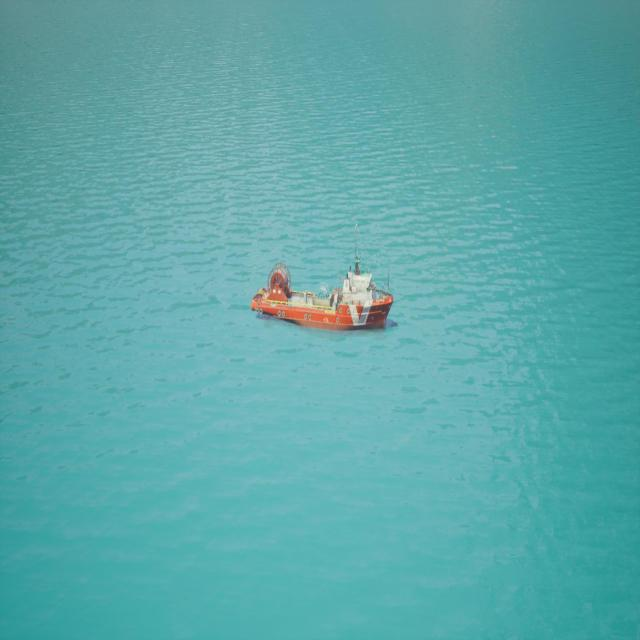tug boat: (251, 225, 398, 337)
